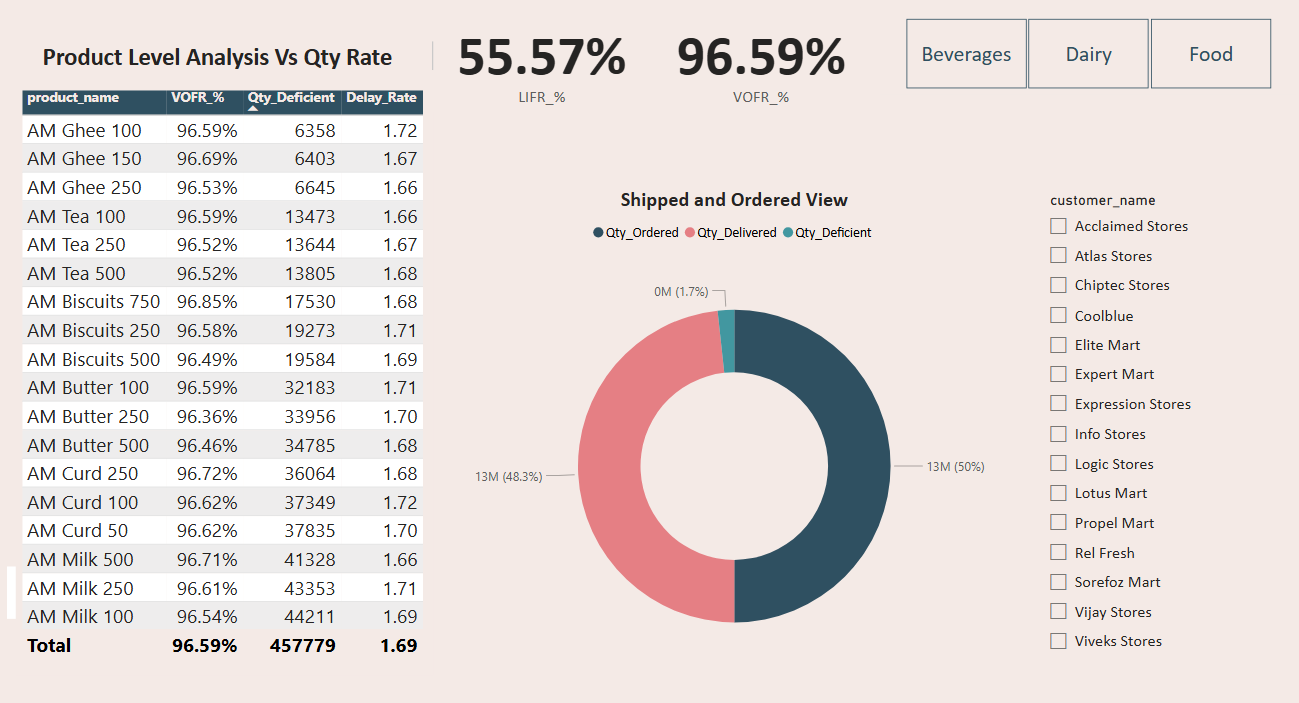

The dashboard page shown, as its layout file describes it:
{"tool":"powerbi","page":{"name":"Product Insights","canvas":[1280,720],"ordinal":2},"visuals":[{"type":"textbox","box":[9.8,560.1,393.8,51.4],"z":0},{"type":"tableEx","fields":{"Values":["dim_products.product_name","Measure.VOFR_%","Measure.Qty_Deficient","Measure.ADDD"]},"box":[18.3,84.4,408.4,582.1],"z":1000},{"type":"textbox","box":[0,41.6,439,52.6],"z":2000},{"type":"donutChart","title":"Shipped and Ordered View","fields":{"Y":["Measure.Qty_Ordered","Measure.Qty_Delivered","Measure.Qty_Deficient"]},"box":[439,188.3,564.9,492.8],"z":3000},{"type":"card","fields":{"Values":["Measure.VOFR_%"]},"box":[650.5,13.5,194.4,102.7],"z":4000},{"type":"slicer","fields":{"Values":["dim_customers.customer_name"]},"box":[1017.4,188.3,242.1,478.1],"z":5000},{"type":"slicer","fields":{"Values":["dim_products.category"]},"box":[863.3,17.1,407.2,81.9],"z":6000},{"type":"card","fields":{"Values":["Measure.LIFR_%"]},"box":[426.8,13.5,212.8,102.7],"z":7000}]}

Visuals, with their boxes on the page's 1280x720 design canvas (x1, y1, x2, y2). These are canvas units, not pixel positions in the 1299x703 screenshot, which may show the page scaled, cropped or inside an application window:
textbox: crop(10, 560, 404, 612)
tableEx - dim_products.product_name x Measure.VOFR_%: crop(18, 84, 427, 666)
textbox: crop(0, 42, 439, 94)
"Shipped and Ordered View" donutChart: crop(439, 188, 1004, 681)
card - Measure.VOFR_%: crop(650, 14, 845, 116)
slicer - dim_customers.customer_name: crop(1017, 188, 1260, 666)
slicer - dim_products.category: crop(863, 17, 1270, 99)
card - Measure.LIFR_%: crop(427, 14, 640, 116)
